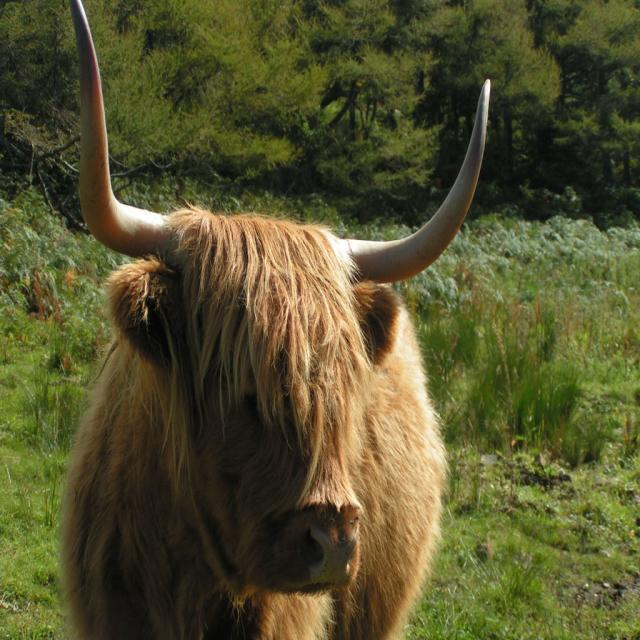Cattle: (60, 0, 492, 640)
